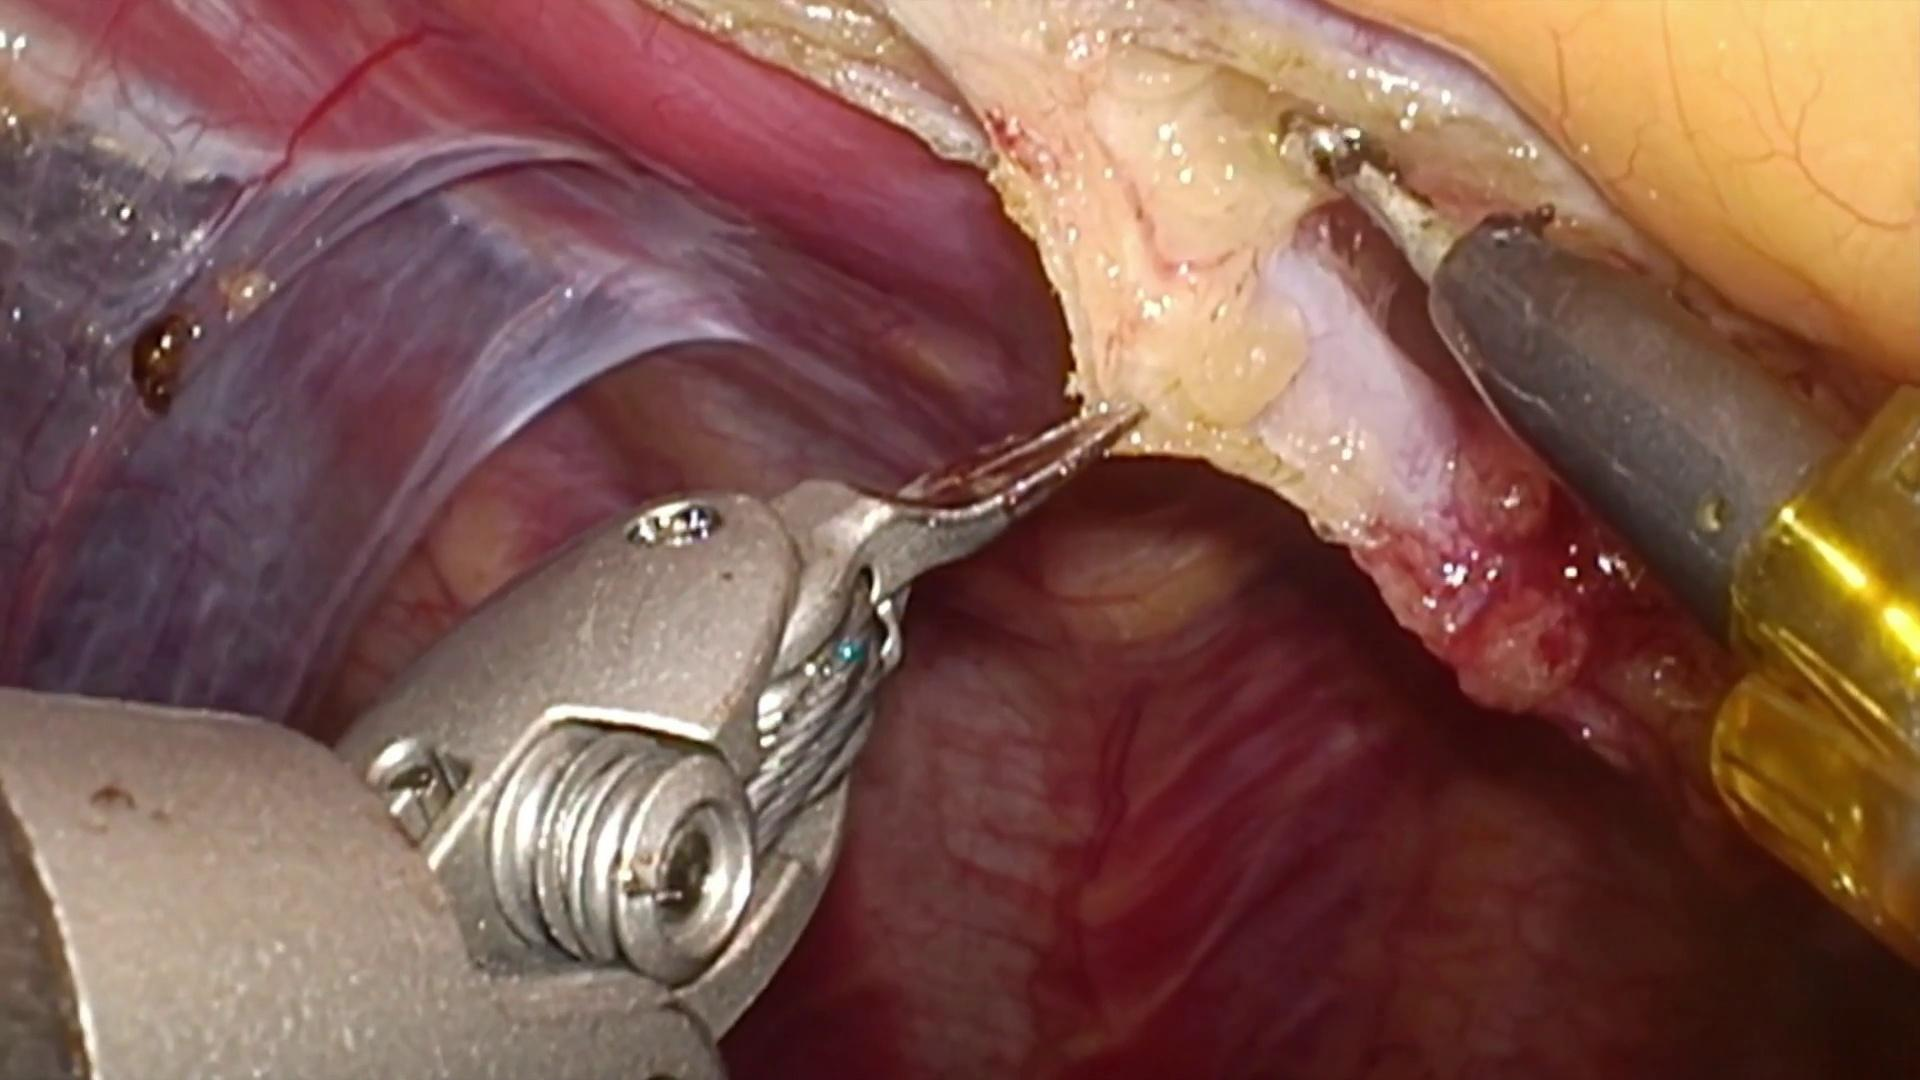Cautery_Spatula: (1292, 119, 1847, 633)
Debakey: (770, 368, 1153, 711)
